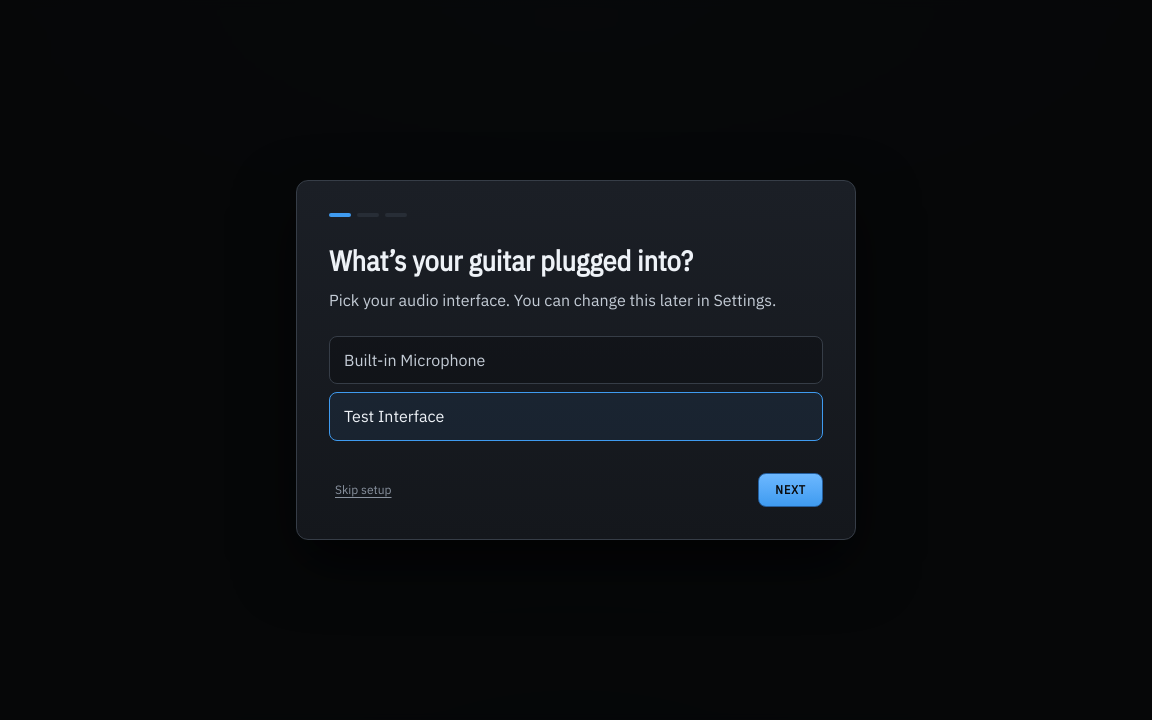
Test: Setup step 1: the audio interface › shows the engine's error as an alert, and clears it after a change that works
Expected: the heading "What’s your guitar plugged into?" is shown, [329,242,693,279]
Click the radio button labelled "Built-in Microphone".
click(415, 360)  # box [329,336,823,384]
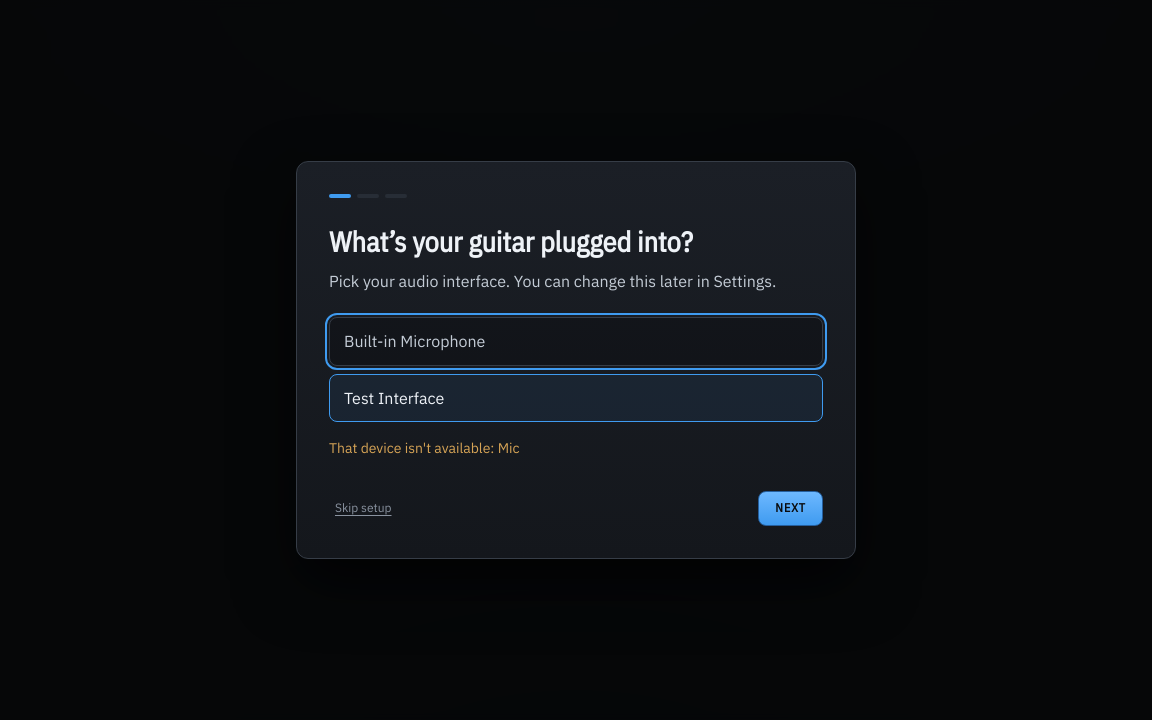
Expected: the message reads "That device isn't available: Mic", [329,439,520,457]
Click the radio button labelled "Test Interface".
click(394, 398)  # box [329,374,823,422]
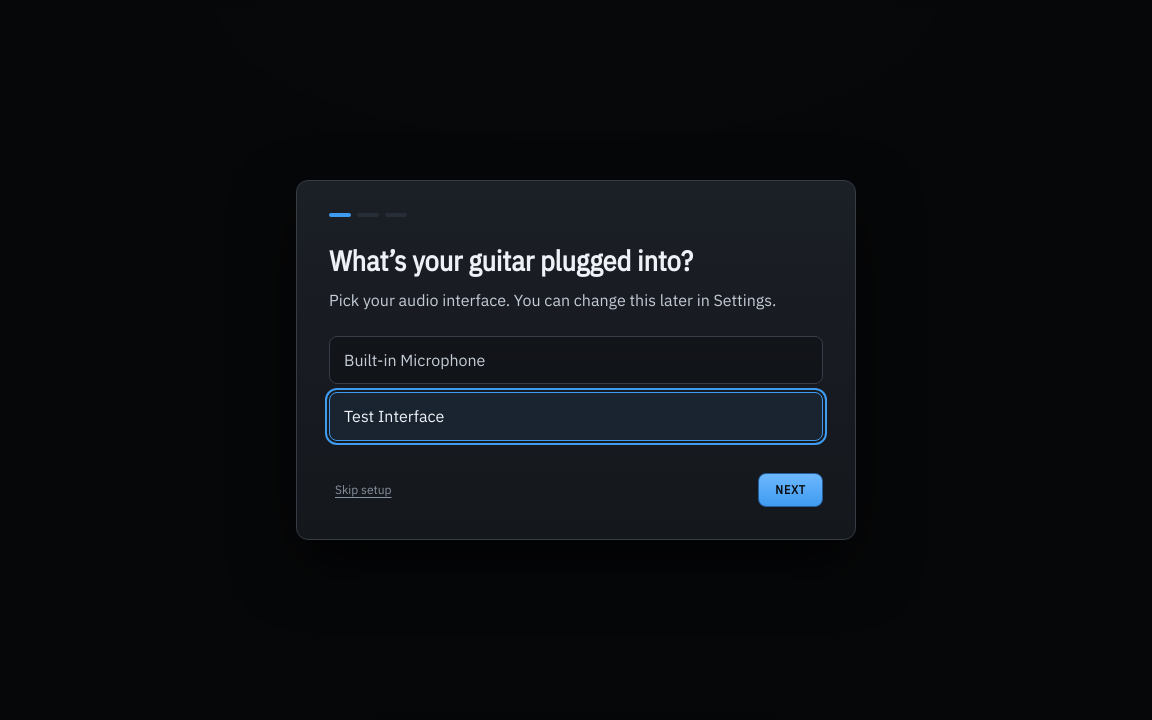
Expected: the message "That device isn't available: Mic" is gone
